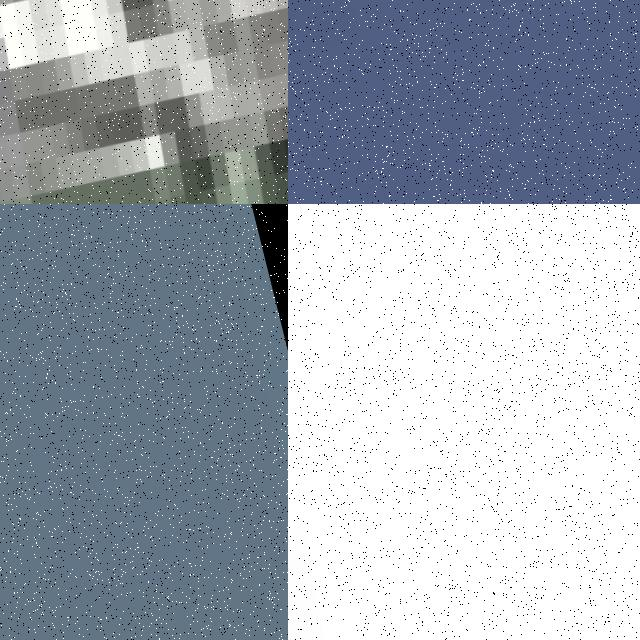drone: (288, 204, 640, 640), (0, 0, 288, 204)
